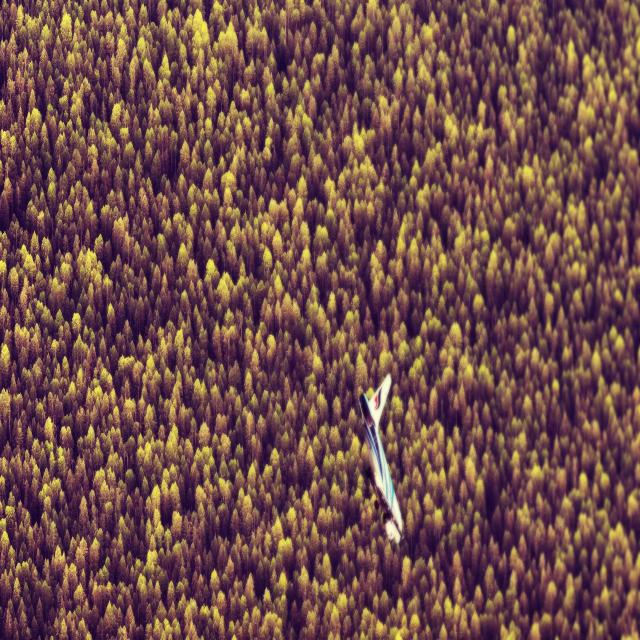airplane: (358, 372, 403, 546)
